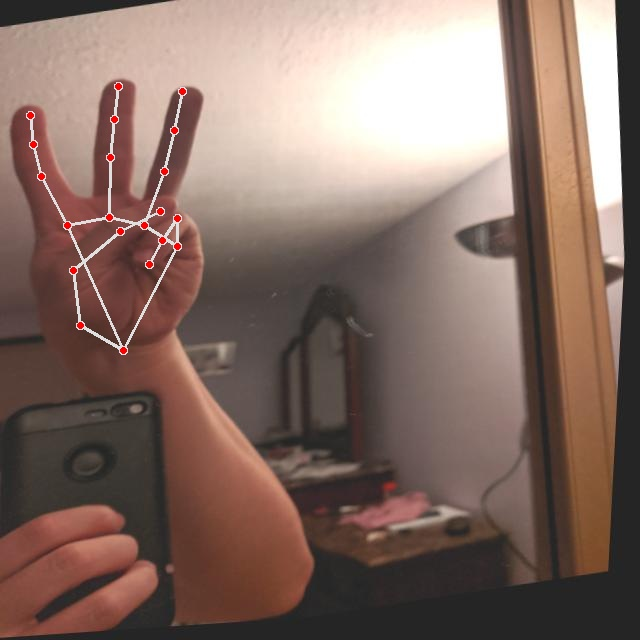W: (0, 64, 231, 376)
